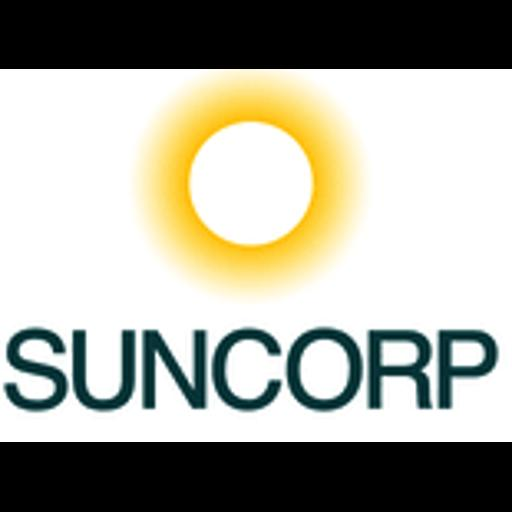Suncorp Group: (0, 69, 512, 442)
